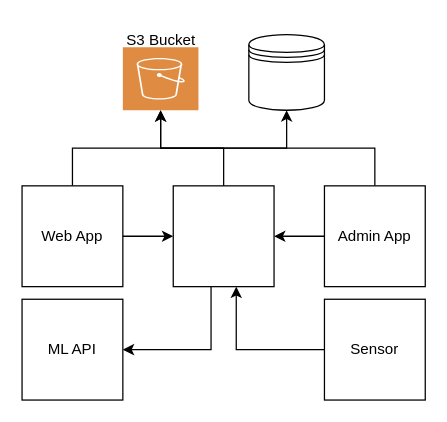
This 447x422 diagram has some shape labels left out. The shapes that lost their labels are listed below. From the top down, each one's centre as x and y in pixels, then its label:
At point (286, 71): "Database".
At point (223, 236): "Web API".
